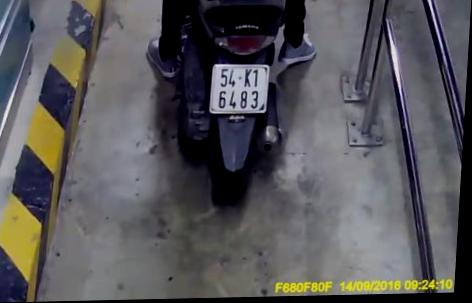License_Plate: (203, 59, 278, 121)
